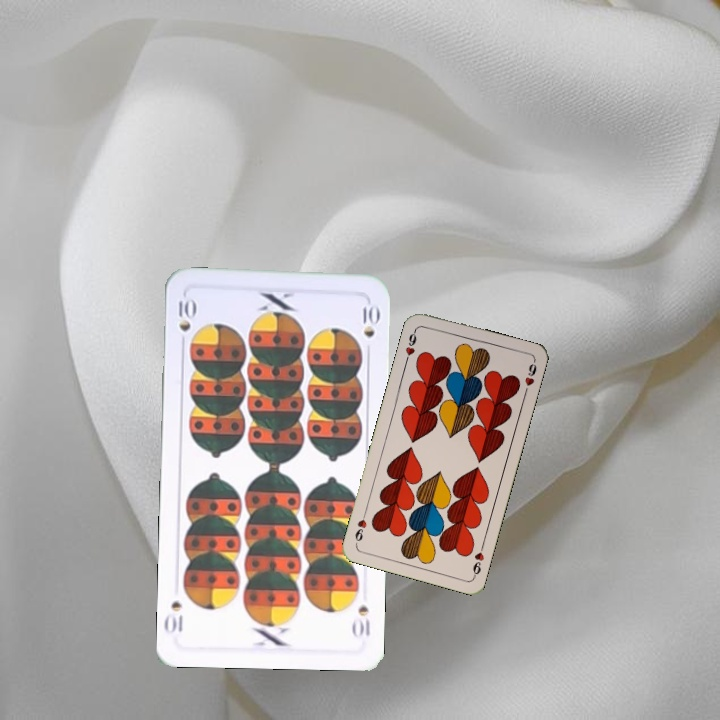H9: (469, 539, 487, 579), (401, 325, 419, 365)
S10: (174, 295, 197, 351), (349, 601, 372, 639)
